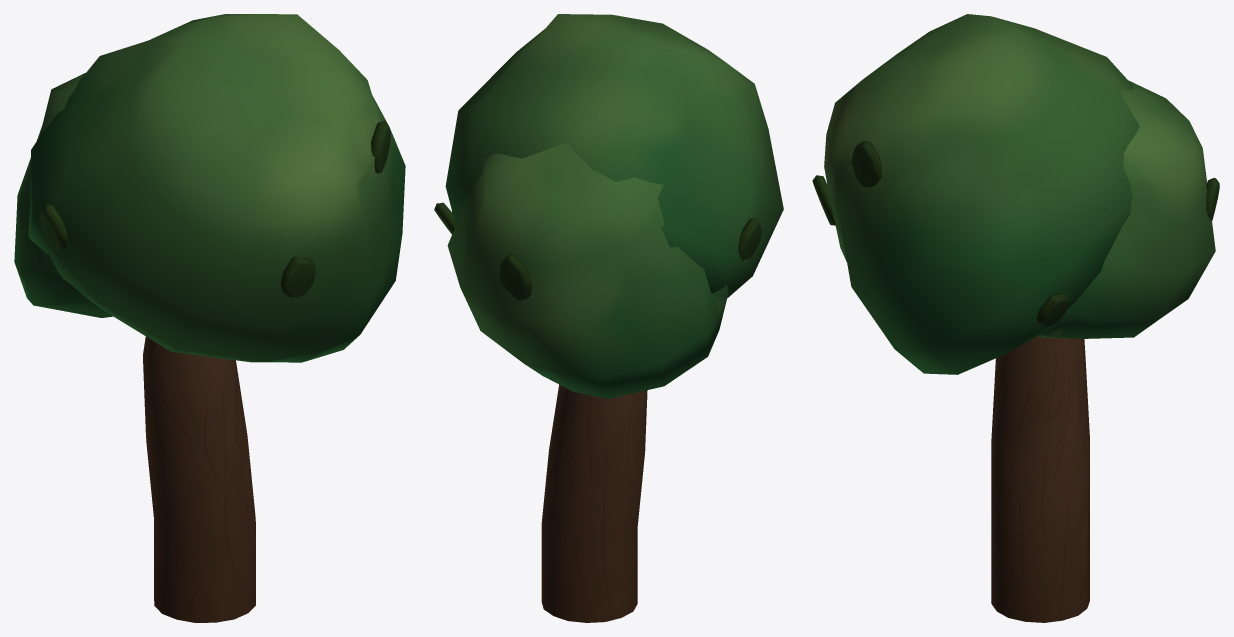
File: Tree.fbx
3 views of the same model, side by side, from view 1: azimuth 30°, elevation 25°; view 2: azimuth 150°, elevation 25°; view 3: azimuth 270°, elevation 25° (orthographic). The views are drawn at different scales.
Visible parts, largest first — view 1: Tree2; view 2: Tree2; view 3: Tree2.
Part boxes in pixels (x1,y1,x2,y2): Tree2: (14, 14, 405, 622); Tree2: (434, 14, 783, 622); Tree2: (812, 14, 1219, 622).
Size of the model in its own units: 117 by 202 by 131.
